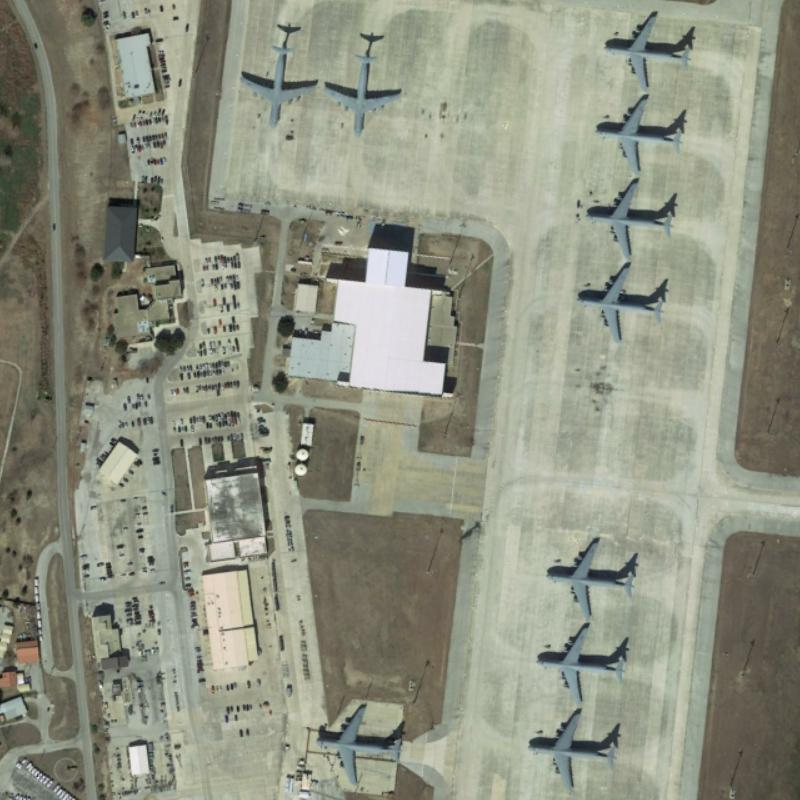A4: (523, 703, 622, 795), (539, 533, 640, 622), (569, 257, 669, 346), (598, 5, 694, 94), (310, 698, 405, 786), (533, 620, 629, 707), (589, 91, 686, 177), (581, 173, 676, 259), (233, 37, 317, 129), (318, 46, 402, 138)
